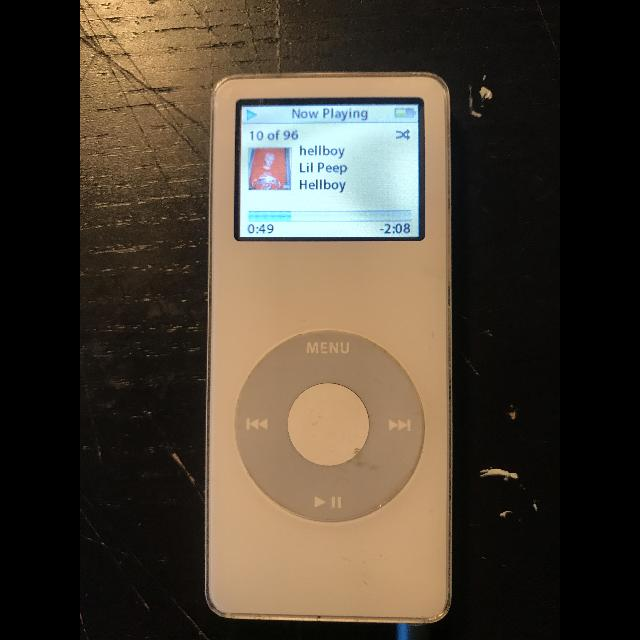Music-Player: (196, 62, 470, 628)
